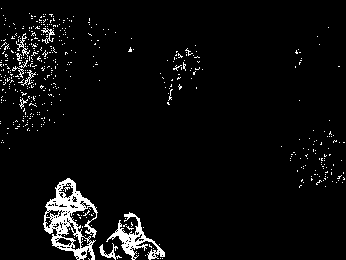person: (42, 177, 97, 259), (99, 211, 166, 260)
